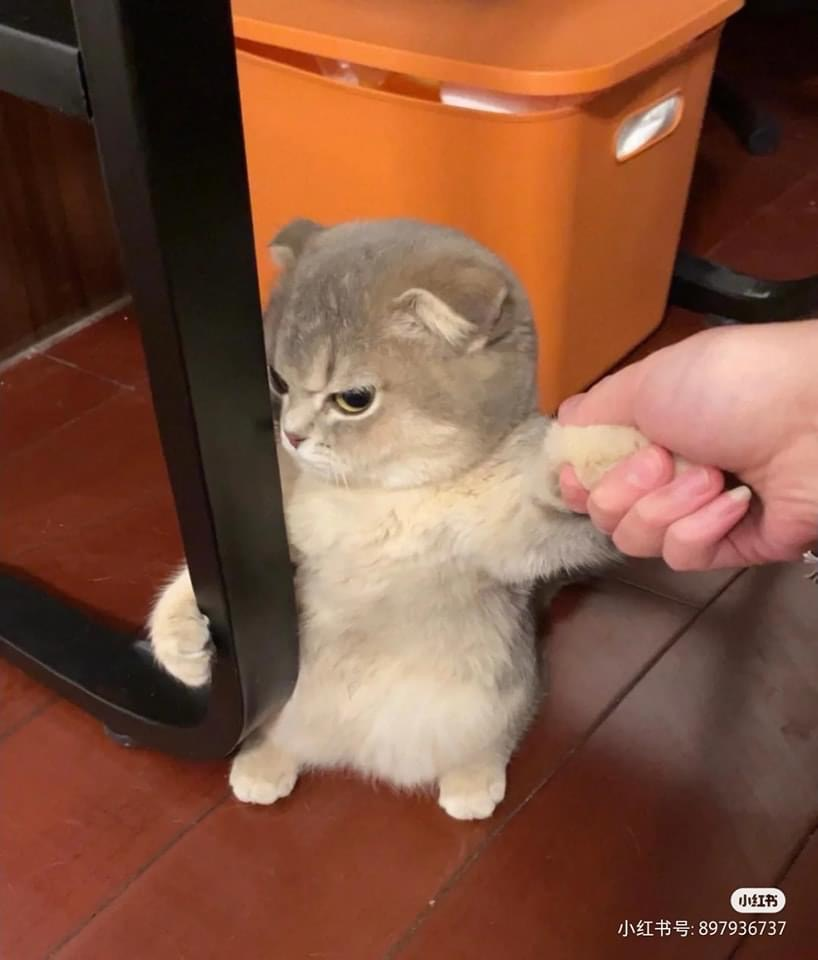cat: (267, 220, 554, 818)
